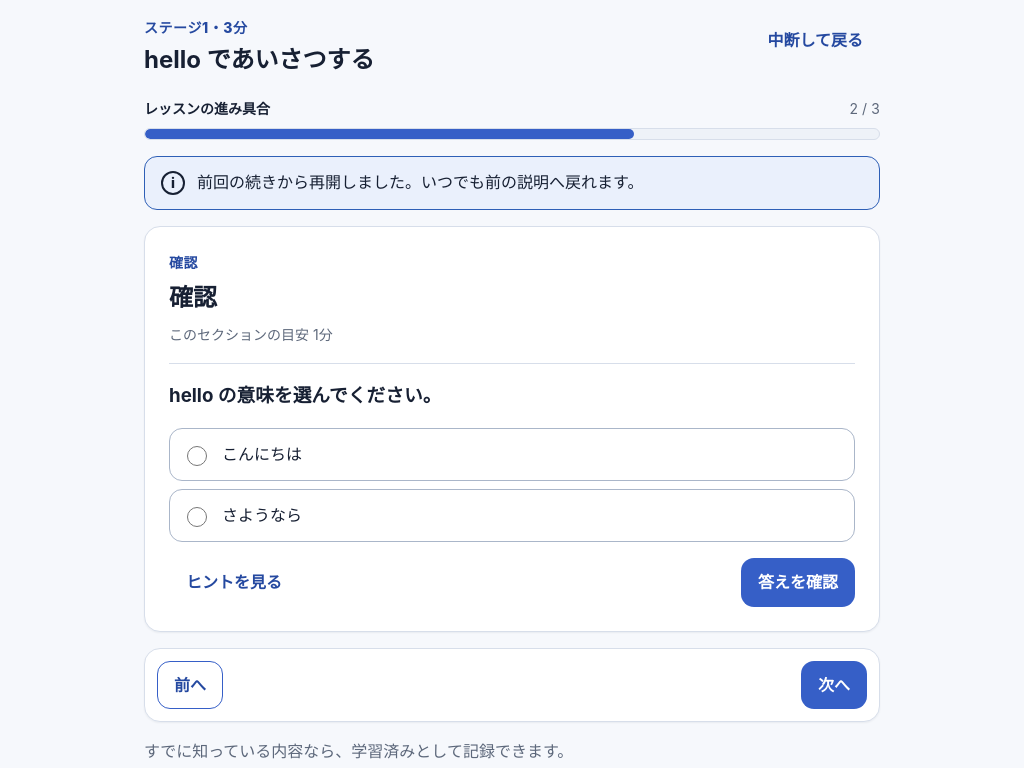
Test: レッスンレンダラー › 確認セクションは全問題の回答保存が終わるまで次へ進めない
Expected: the heading named "helloの意味を選んでください。" is shown, [169,384,441,407]
What coordinates should you click on to do the following:
click the button "次へ"
I would click on:
 (834, 685)
Its box is [801,660,867,709].
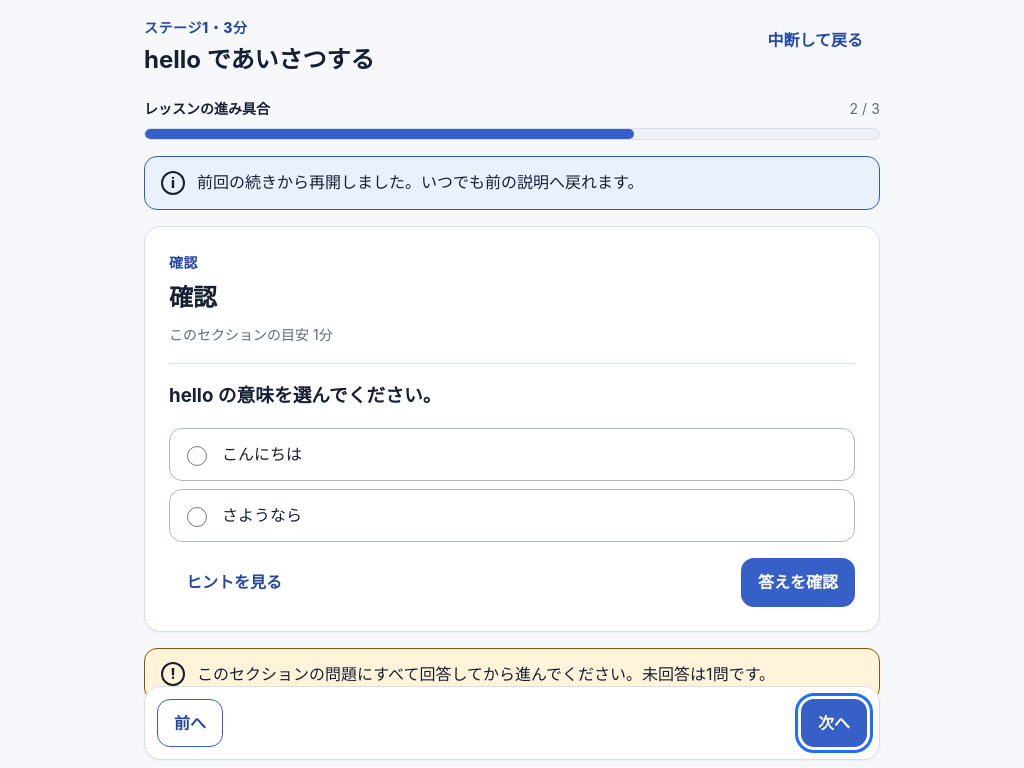
Expected: the heading "確認" is shown, [169,283,217,312]
Now the text "このセクションの問題にすべて回答してから進んでください。未回答は1問です。" is shown, box [197,660,863,688]
What coordinates should you click on to do the following:
click the radio button labelled "こんにちは"
I would click on:
 (197, 456)
Its box is [187,446,207,466].
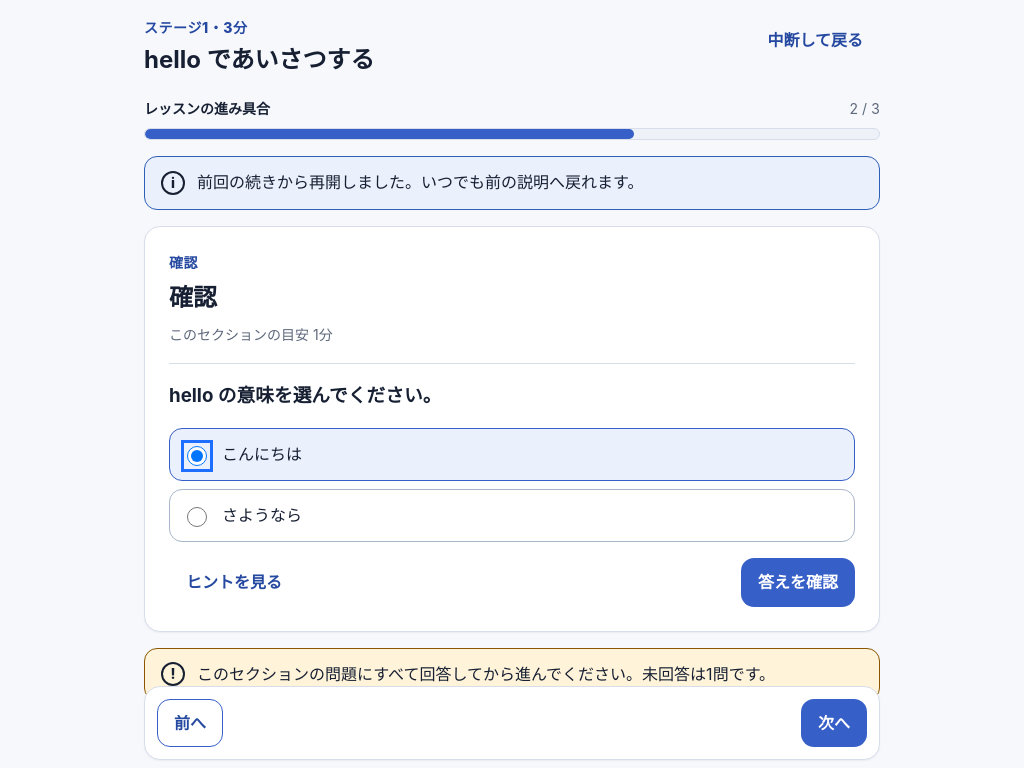
What coordinates should you click on to do the following:
click the button "答えを確認"
I would click on:
 (798, 582)
Its box is [741,558,855,607].
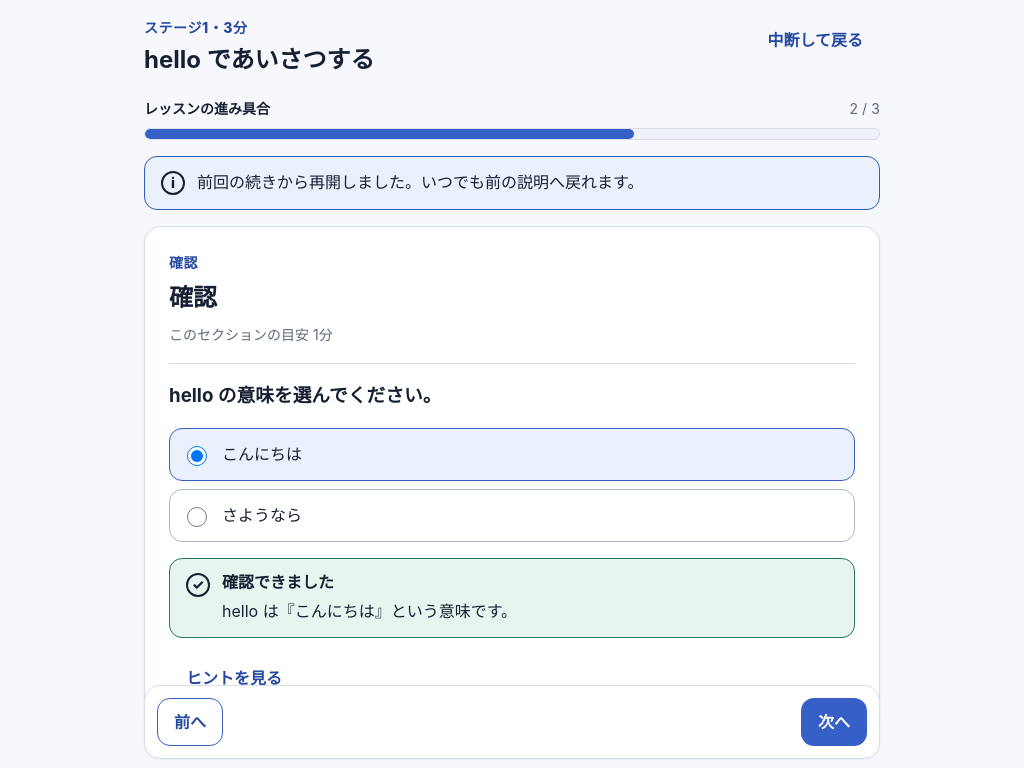
Now the text "確認できました" is shown, box [222,572,334,592]
What coordinates should you click on to do the following:
click the button "次へ"
I would click on:
 (834, 723)
Its box is [801,699,867,747].
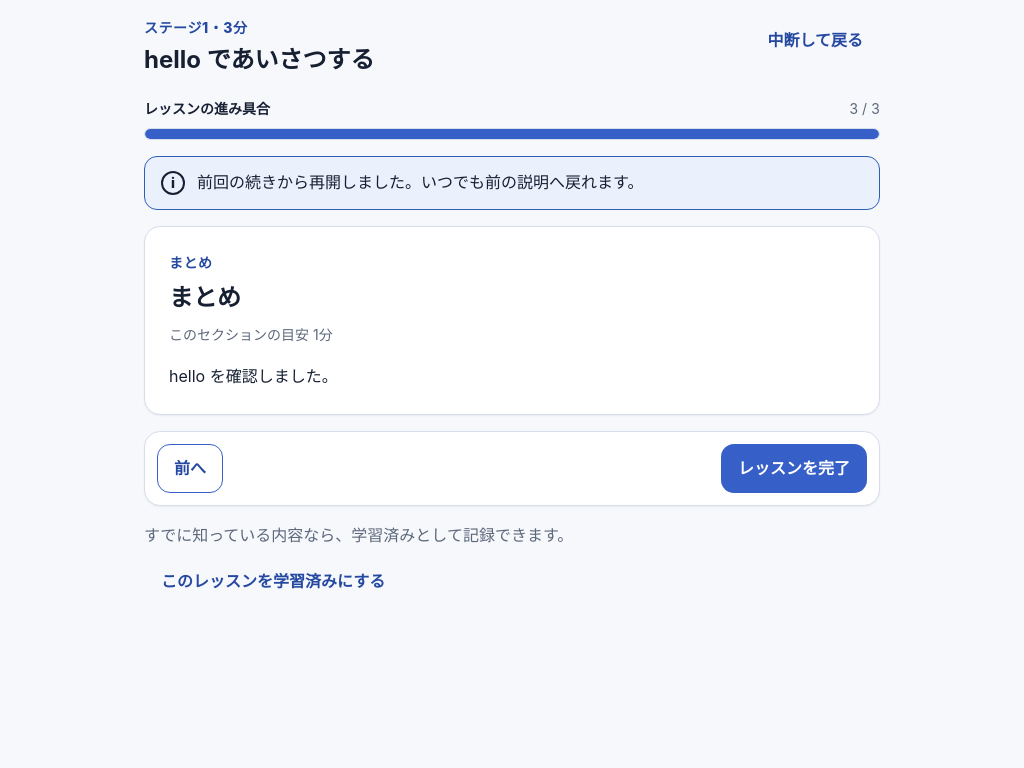
Now the heading "まとめ" is shown, box [169,283,241,312]
